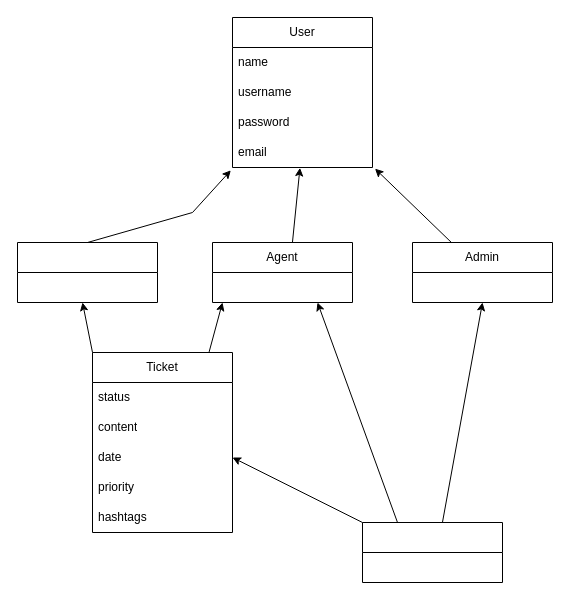
The diagram is 570 pixels wide and 600 high, and some of its shapes have lost their labels. The box of each missing label's shape, as (x1, y1, x2, y2) in pixels:
Client: (16, 242, 158, 302)
Department: (362, 522, 502, 582)
